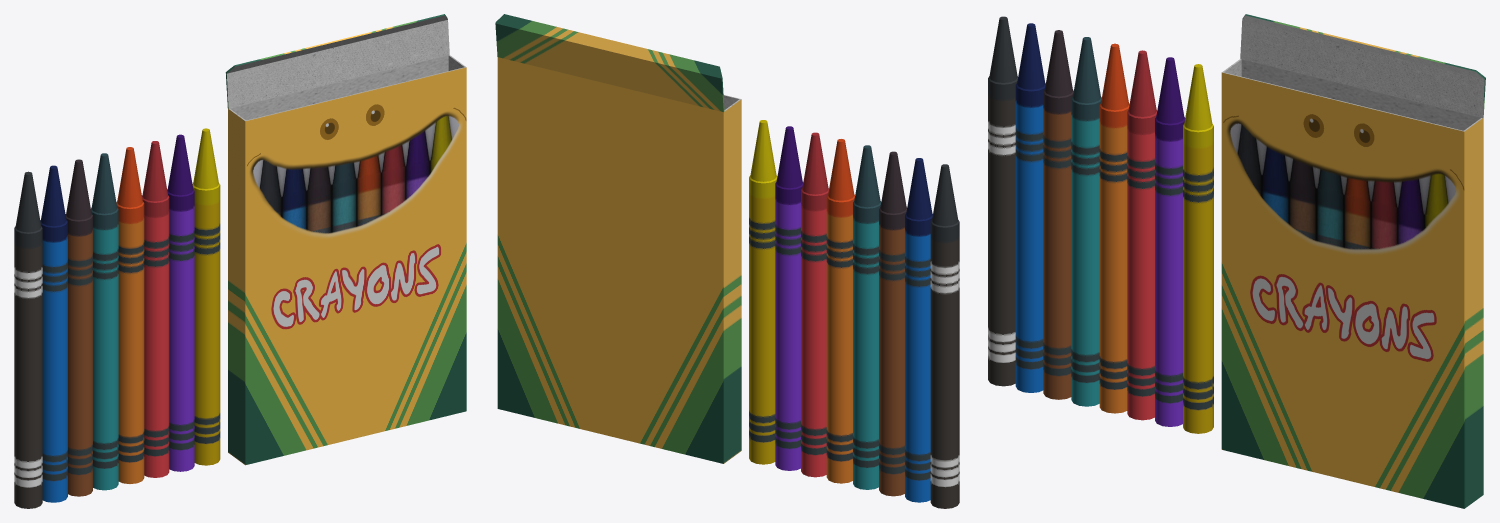
Rendered from Crayons.fbx.
3 renders of one model, left to right at view 1: azimuth 30°, elevation 25°; view 2: azimuth 150°, elevation 25°; view 3: azimuth 330°, elevation 25°, orthographic. The views are drawn at different scales.
Visible parts, largest first — view 1: CrayonsBox, CrayonBlack, CrayonYellow, CrayonOrange, CrayonGreen, CrayonViolet, CrayonBlue, CrayonRed, CrayonBrown; view 2: CrayonsBox, CrayonBlack, CrayonYellow, CrayonOrange, CrayonRed, CrayonGreen, CrayonBrown, CrayonBlue, CrayonViolet; view 3: CrayonsBox, CrayonYellow, CrayonBrown, CrayonGreen, CrayonOrange, CrayonBlue, CrayonViolet, CrayonRed, CrayonBlack.
Boxes of the visible parts, x1,y1,x2,y2 form: CrayonsBox: (225,14,466,465); CrayonBlack: (14,171,42,508); CrayonYellow: (192,128,220,465); CrayonOrange: (116,147,144,483); CrayonGreen: (91,153,118,490); CrayonViolet: (167,134,194,471); CrayonBlue: (40,165,67,502); CrayonRed: (142,141,169,477); CrayonBrown: (65,159,92,496); CrayonsBox: (495,14,741,463); CrayonBlack: (930,164,959,508); CrayonYellow: (749,120,777,464); CrayonOrange: (826,139,854,483); CrayonRed: (801,132,828,477); CrayonGreen: (853,145,881,489); CrayonBrown: (879,151,906,496); CrayonBlue: (905,158,932,502); CrayonViolet: (775,126,803,470); CrayonsBox: (1221,14,1485,508); CrayonYellow: (1183,64,1213,433); CrayonBrown: (1043,30,1073,399); CrayonGreen: (1071,37,1101,406); CrayonOrange: (1099,43,1129,413); CrayonBlue: (1015,23,1045,392); CrayonViolet: (1155,57,1185,426); CrayonRed: (1127,50,1157,420); CrayonBlack: (988,16,1017,386).
Size of the model in its own units: 0.2845 by 0.2381 by 0.0219.
